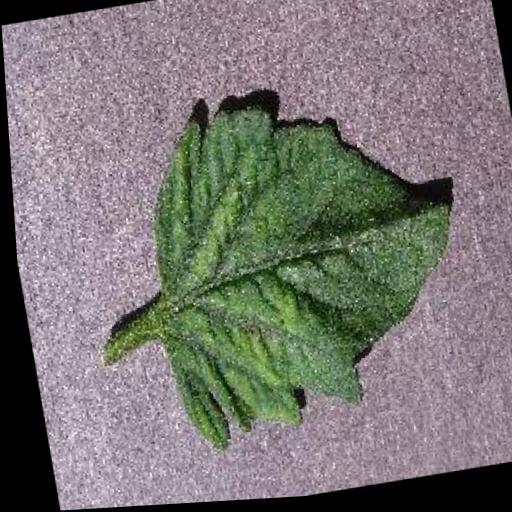Mosaic Virus: (111, 72, 482, 467)
